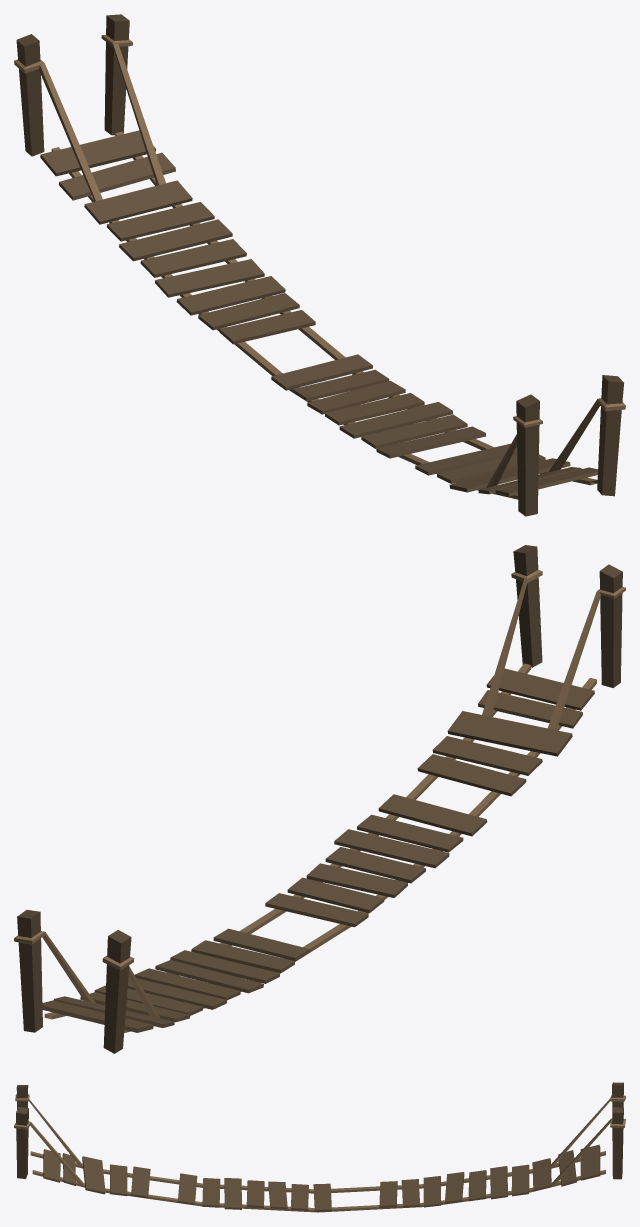
File: Bridge-B02.fbx
3 renders of one model, top to bottom at view 1: azimuth 30°, elevation 25°; view 2: azimuth 150°, elevation 25°; view 3: azimuth 270°, elevation 25°, orthographic. The views are drawn at different scales.
Parts seen in each view (by area): view 1: Bridge-B02; view 2: Bridge-B02; view 3: Bridge-B02.
Boxes of the visible parts, left/top/right/bottom form: Bridge-B02: left=14, top=14, right=625, bottom=516; Bridge-B02: left=14, top=545, right=625, bottom=1053; Bridge-B02: left=14, top=1082, right=625, bottom=1212.
Size of the model in its own units: 301 by 456 by 2400.
